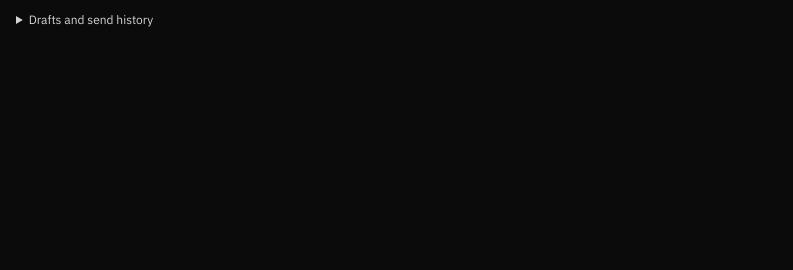
Scenario: opening lists metadata only; each exact body requires an explicit recovery click
Later steps or results of the test are not shown.
Click the heading "Drafts and send history".
click(85, 20)  # box 16,12 -> 153,27
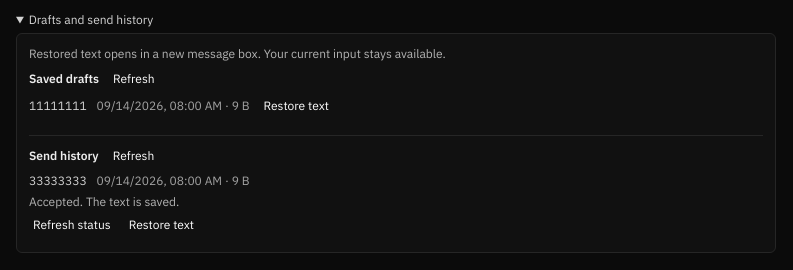
Expected: the element labelled "Saved drafts" is shown, 29,69 -> 333,115
